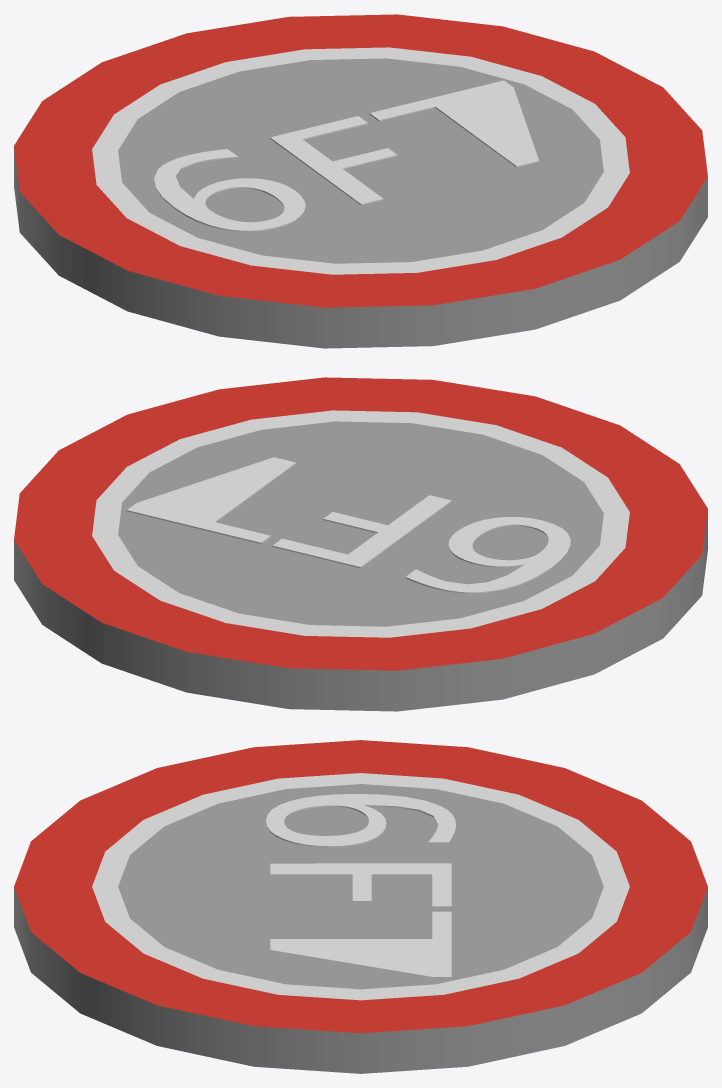
File: 6ftmarker.glb
3 renders of one model, top to bottom at view 1: azimuth 30°, elevation 25°; view 2: azimuth 150°, elevation 25°; view 3: azimuth 270°, elevation 25°, orthographic.
Parts seen in each view (by area): view 1: pCylinder1, typeMesh1; view 2: pCylinder1, typeMesh1; view 3: pCylinder1, typeMesh1.
Part boxes in pixels (box(x1,y1,x2,y2)): pCylinder1: box(14, 14, 707, 348); typeMesh1: box(154, 80, 539, 231); pCylinder1: box(14, 377, 707, 711); typeMesh1: box(126, 457, 570, 593); pCylinder1: box(14, 740, 707, 1073); typeMesh1: box(265, 794, 455, 978).
Size of the model in its own units: 10.75 by 0.717 by 10.75.
